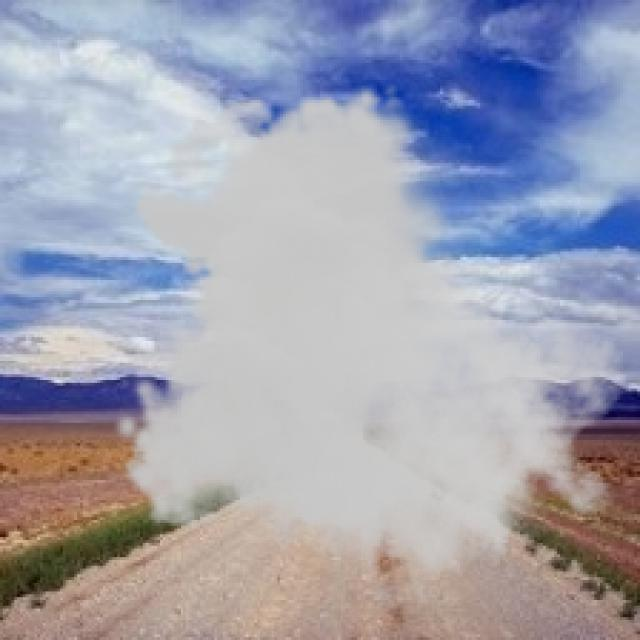Smoke: (111, 83, 628, 623)
